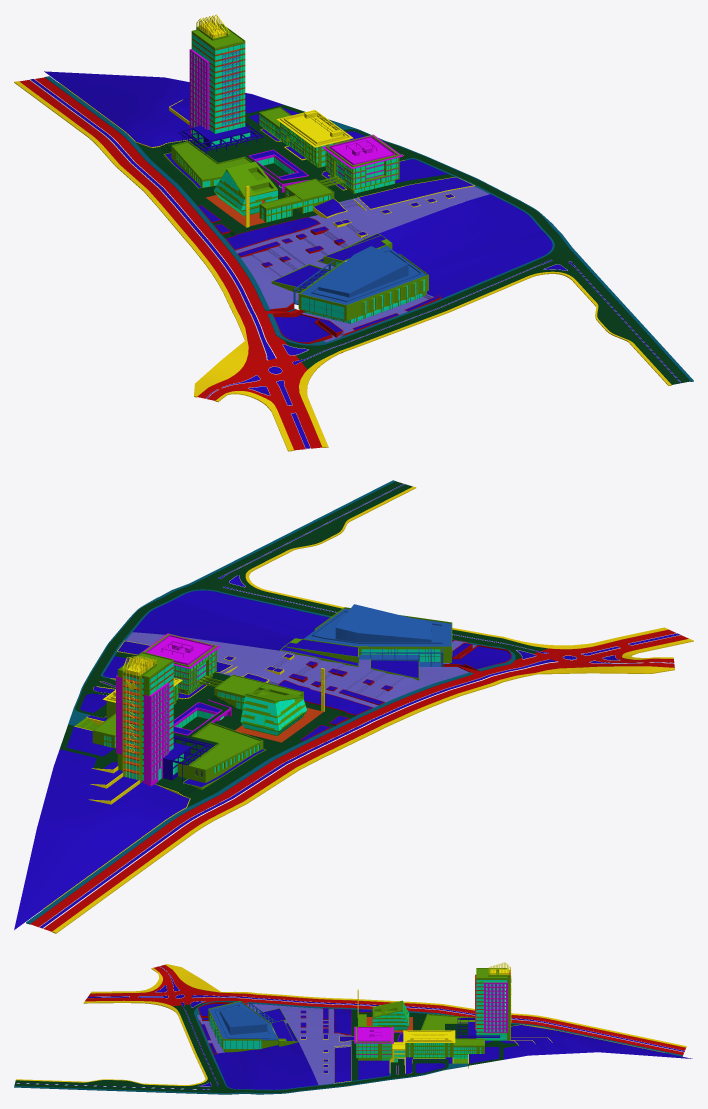
The model's file is bilisim.fbx.
The picture shows the model from 3 angles, top to bottom: view 1: azimuth 30°, elevation 25°; view 2: azimuth 150°, elevation 25°; view 3: azimuth 270°, elevation 25°; orthographic projection. The views are drawn at different scales.
Parts seen in each view (by area): view 1: SM_Env_soil_01a, SM_Env_Ground_01a, Plane120, Object066, SM_Bld_Blok8_01a, SM_Bld_Blok1_01a, Object065, Plane144, SM_Bld_Blok4_01a, SM_Env_Edge_01a, SM_Bld_Blok6_01a, SM_Bld_Blok7_01a (+4 smaller); view 2: SM_Env_soil_01a, SM_Env_Ground_01a, Plane120, SM_Bld_Blok1_01a, Object066, SM_Bld_Blok8_01a, Object065, Plane144, SM_Bld_Blok7_01a, SM_Bld_Blok6_01a, SM_Env_Edge_01a, SM_Bld_Blok4_01a (+3 smaller); view 3: SM_Env_soil_01a, Plane120, SM_Env_Ground_01a, Object066, SM_Bld_Blok1_01a, SM_Bld_Blok8_01a, Object065, Plane144, SM_Bld_Blok3_01a, SM_Bld_Blok4_01a, Object062, SM_Env_Edge_01a (+4 smaller).
Boxes of the visible parts, left/top/right/bottom form: SM_Env_soil_01a: left=30, top=71, right=681, bottom=448; SM_Env_Ground_01a: left=136, top=105, right=489, bottom=342; Plane120: left=19, top=77, right=322, bottom=450; Object066: left=284, top=129, right=690, bottom=384; SM_Bld_Blok8_01a: left=271, top=233, right=428, bottom=323; SM_Bld_Blok1_01a: left=178, top=14, right=263, bottom=154; Object065: left=14, top=81, right=671, bottom=451; Plane144: left=45, top=76, right=693, bottom=381; SM_Bld_Blok4_01a: left=322, top=134, right=402, bottom=193; SM_Env_Edge_01a: left=59, top=82, right=474, bottom=353; SM_Bld_Blok6_01a: left=205, top=161, right=277, bottom=226; SM_Bld_Blok7_01a: left=163, top=139, right=308, bottom=192; SM_Env_soil_01a: left=14, top=484, right=679, bottom=929; SM_Env_Ground_01a: left=60, top=632, right=476, bottom=807; Plane120: left=30, top=629, right=688, bottom=931; SM_Bld_Blok1_01a: left=116, top=652, right=213, bottom=786; Object066: left=75, top=481, right=547, bottom=718; SM_Bld_Blok8_01a: left=280, top=604, right=452, bottom=680; Object065: left=52, top=486, right=693, bottom=933; Plane144: left=26, top=480, right=515, bottom=924; SM_Bld_Blok7_01a: left=173, top=699, right=265, bottom=789; SM_Bld_Blok6_01a: left=235, top=688, right=323, bottom=742; SM_Env_Edge_01a: left=43, top=639, right=511, bottom=909; SM_Bld_Blok4_01a: left=142, top=633, right=220, bottom=694; SM_Env_soil_01a: left=15, top=966, right=692, bottom=1089; Plane120: left=85, top=965, right=685, bottom=1055; SM_Env_Ground_01a: left=197, top=1003, right=518, bottom=1084; Object066: left=14, top=1002, right=448, bottom=1093; SM_Bld_Blok1_01a: left=457, top=962, right=511, bottom=1040; SM_Bld_Blok8_01a: left=208, top=1001, right=298, bottom=1052; Object065: left=16, top=964, right=686, bottom=1086; Plane144: left=14, top=1000, right=682, bottom=1094; SM_Bld_Blok3_01a: left=390, top=1030, right=455, bottom=1062; SM_Bld_Blok4_01a: left=354, top=1026, right=393, bottom=1060; Object062: left=16, top=966, right=684, bottom=1089; SM_Env_Edge_01a: left=198, top=1002, right=664, bottom=1086.
Size of the model in its own units: 24559 by 8335 by 50179.
